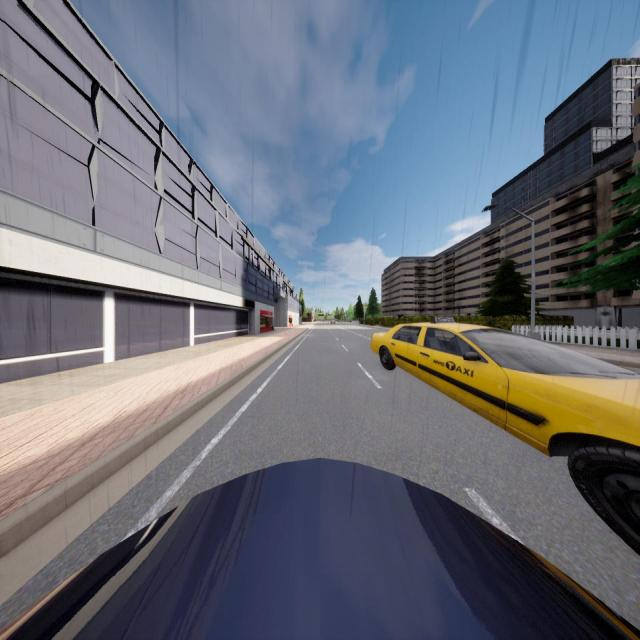Vehicle: (2, 455, 640, 640), (370, 322, 640, 554), (330, 318, 336, 324)
